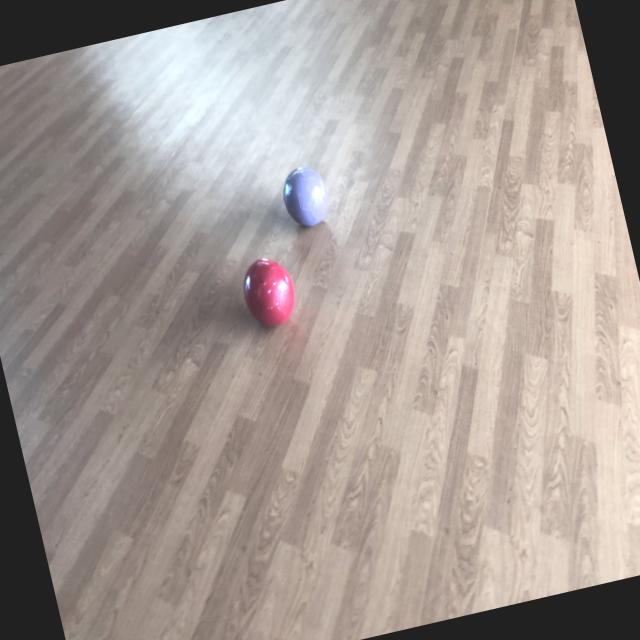purple_ball: (278, 161, 334, 231)
red_ball: (236, 250, 304, 332)
